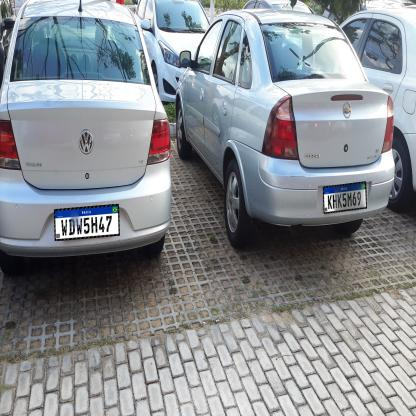PlacaM: (54, 204, 120, 241), (323, 181, 367, 214)
